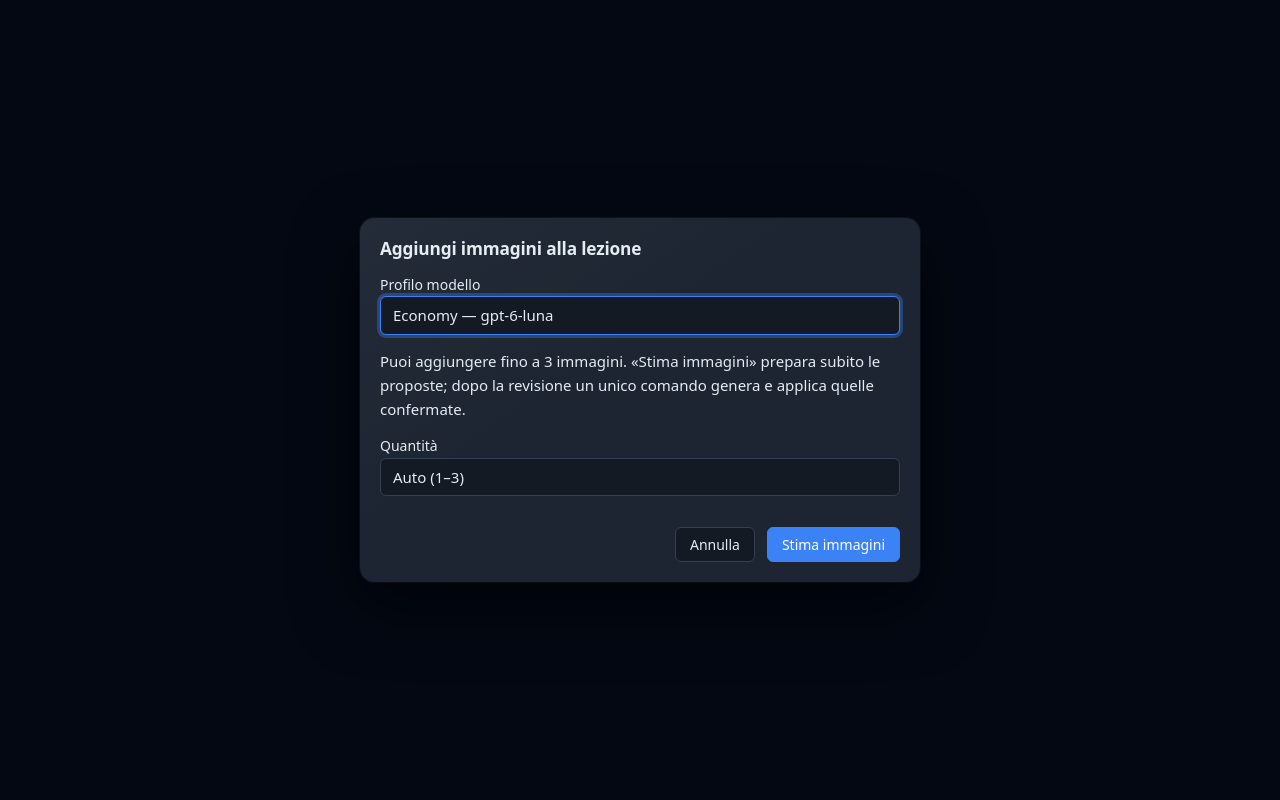
Test: LessonMultiVisualWorkflowDialog › genera e applica più immagini in sequenza con un solo refresh e riepilogo
The image size is (1280, 800).
Step 1. Click the button "Stima immagini" → coordinates (833, 544), box [767, 527, 900, 562]
(page scrolled)
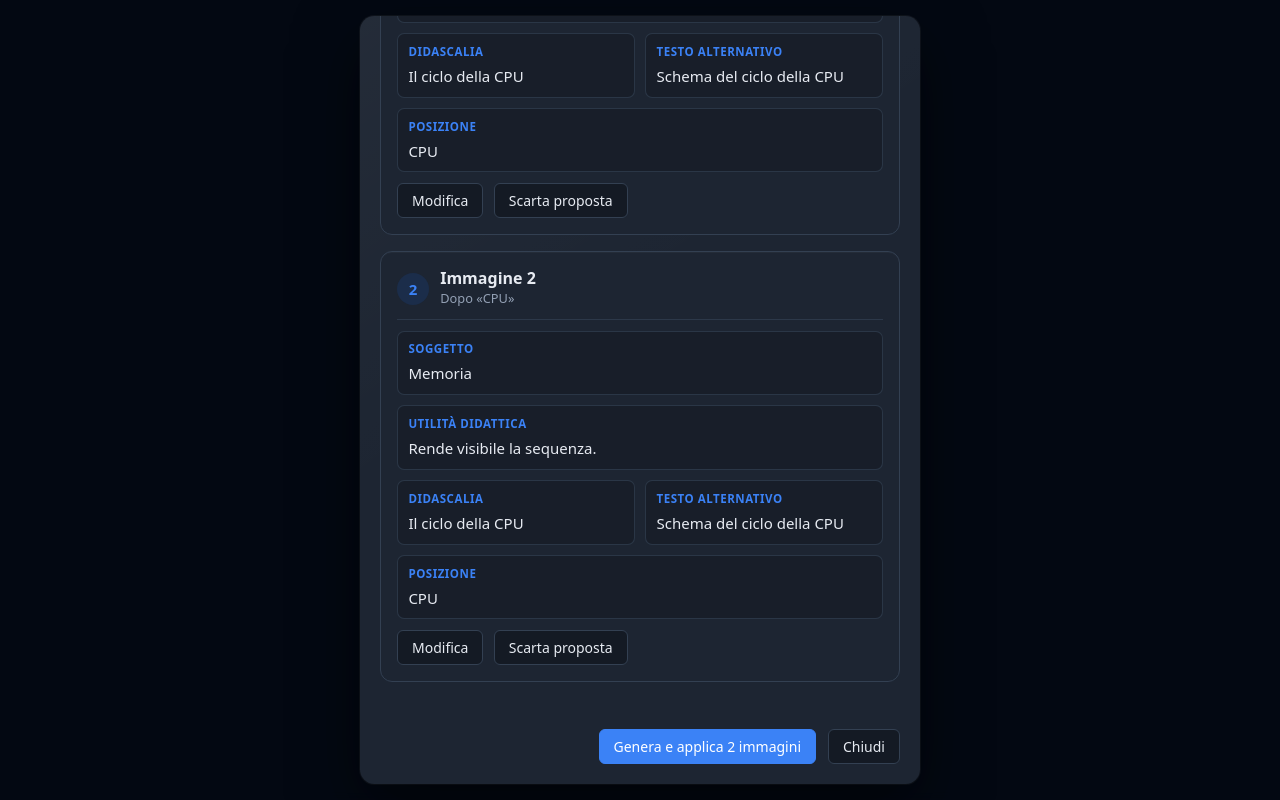
Step 2. Click the button "Genera e applica 2 immagini" → coordinates (707, 746), box [598, 729, 816, 764]
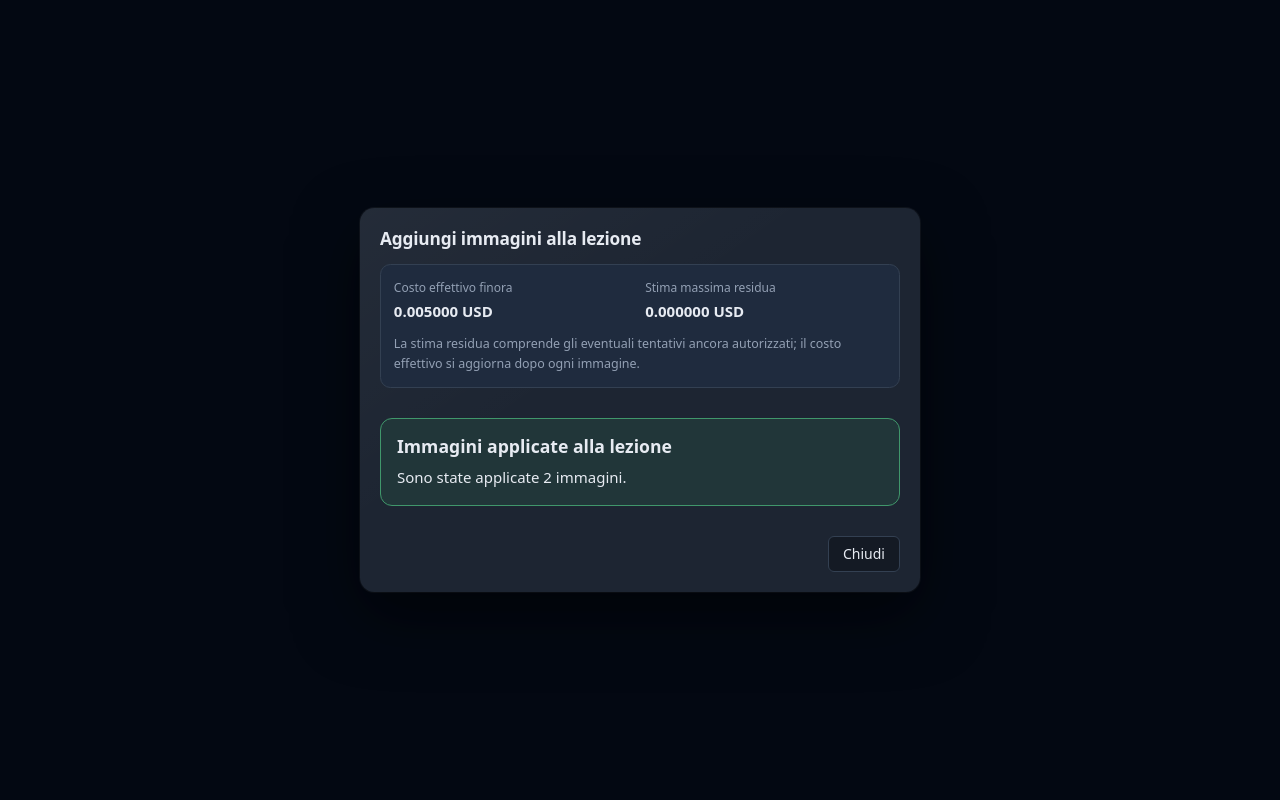
Expected: the heading "Immagini applicate alla lezione" is shown, [397, 434, 672, 458]
Expected: the text "Sono state applicate 2 immagini." is shown, [397, 467, 626, 487]
